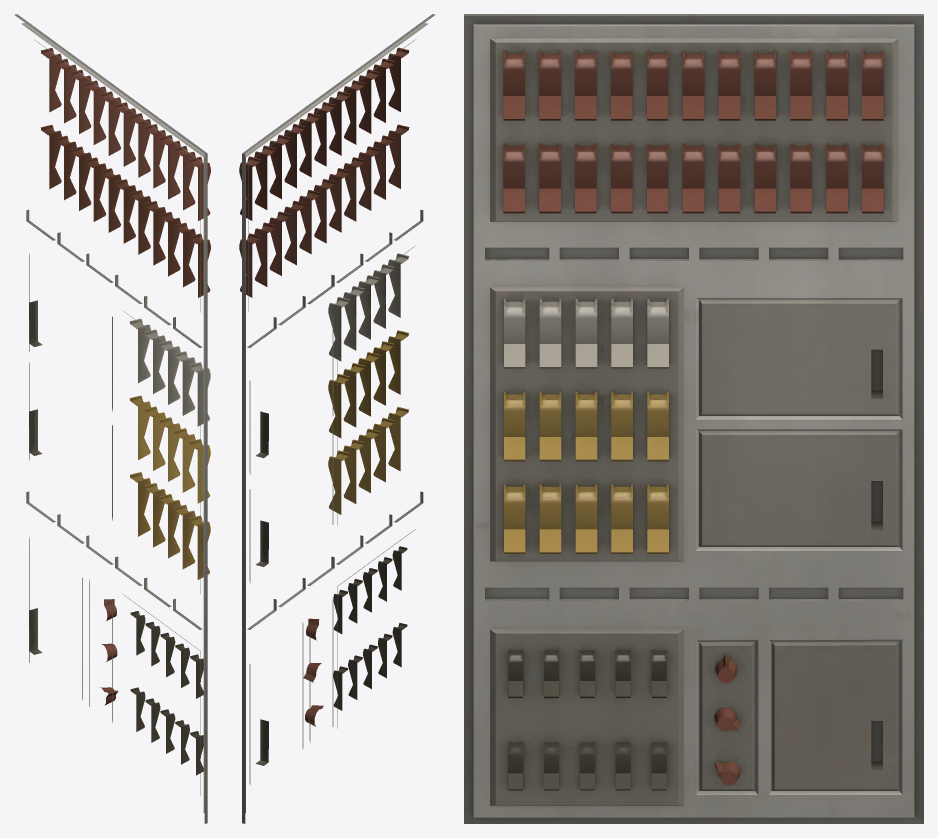
The picture shows the model from 3 angles, left to right: view 1: azimuth 30°, elevation 25°; view 2: azimuth 150°, elevation 25°; view 3: azimuth 270°, elevation 25°; orthographic projection. The views are drawn at different scales.
Parts seen in each view (by area): view 1: body0_model0_lod0_mesh0; view 2: body0_model0_lod0_mesh0; view 3: body0_model0_lod0_mesh0.
Boxes of the visible parts, x1,y1,x2,y2 form: body0_model0_lod0_mesh0: (14, 14, 210, 823); body0_model0_lod0_mesh0: (239, 14, 435, 823); body0_model0_lod0_mesh0: (464, 14, 923, 823).
Size of the model in its own units: 4.92 by 128 by 65.99.
1 material, 1 textured.
